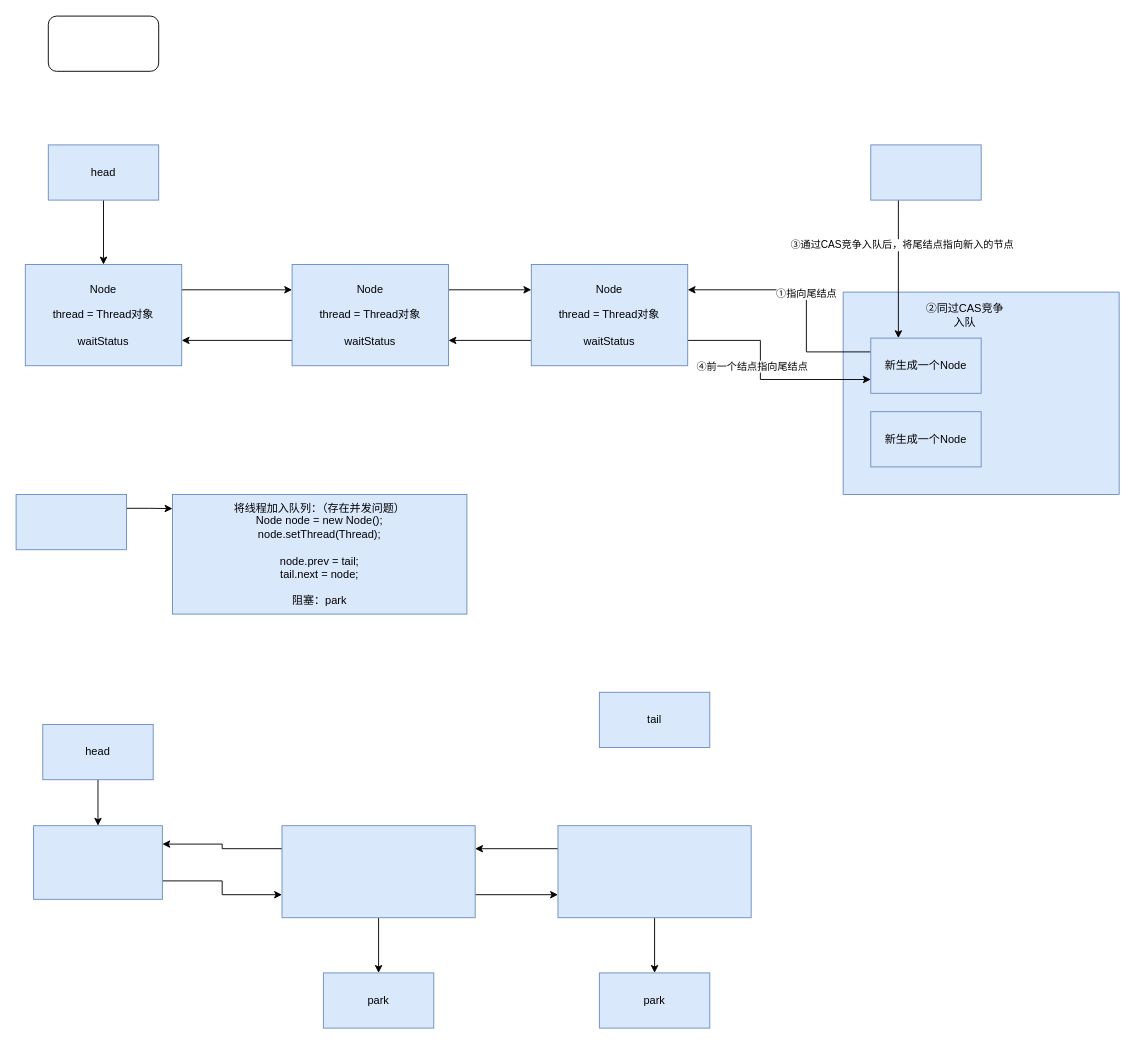
The diagram is 1135 pixels wide and 1044 high, and some of its shapes have lost their labels. The centre of each missing label's shape, as x and y in pixels:
Node thread = thread2 waitStatus = -1: the point at 378,871
Node thread = thread2 waitStatus = 0: the point at 654,871
null: the point at 97,862
tail 尾结点: the point at 925,172
如果加锁失败则需要进行入队操作，将线程加入队列: the point at 70,522
队列，双向链表: the point at 103,43
